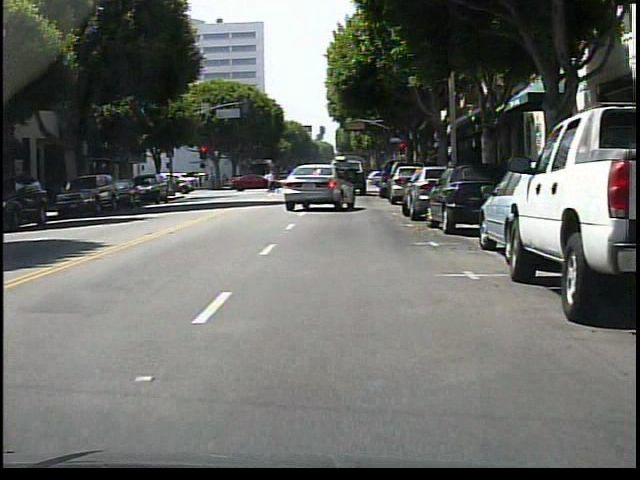person: (289, 167, 299, 194), (267, 170, 278, 194), (264, 172, 270, 189)
